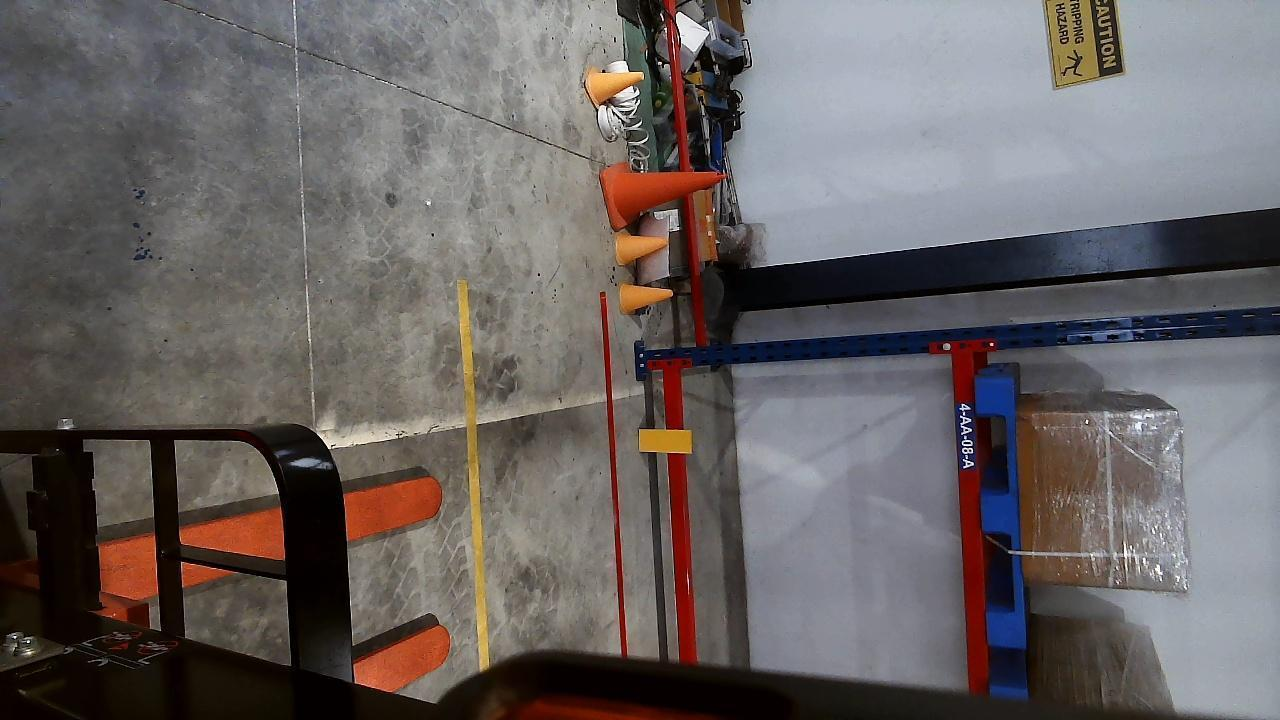red_line: (598, 293, 627, 658)
yellow_line: (455, 280, 488, 668)
